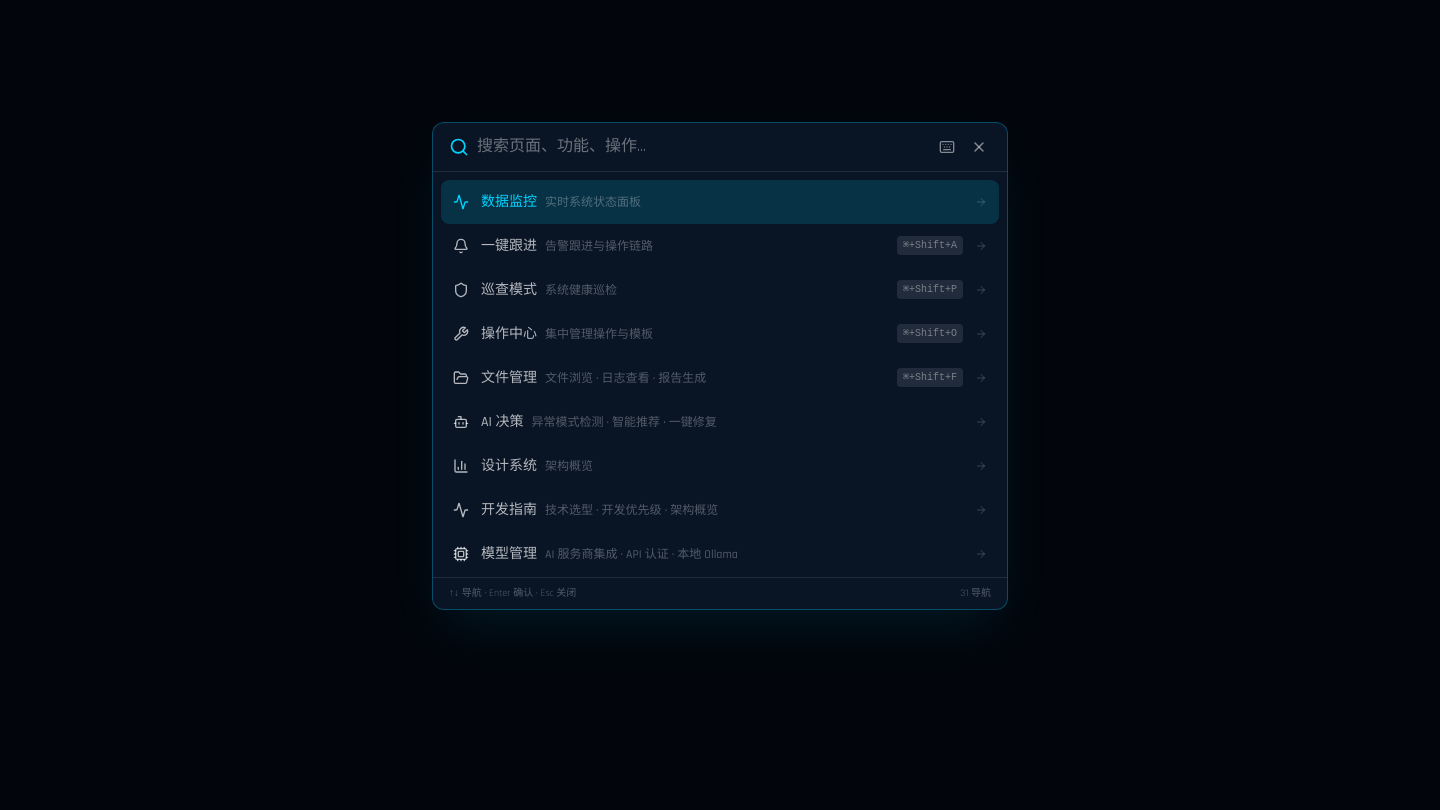
Scenario: CommandPalette › 快捷键帮助 › 点击快捷键按钮应显示帮助面板
Click the button with test id "shortcuts-toggle".
click(947, 146)  # box [935,134,959,158]
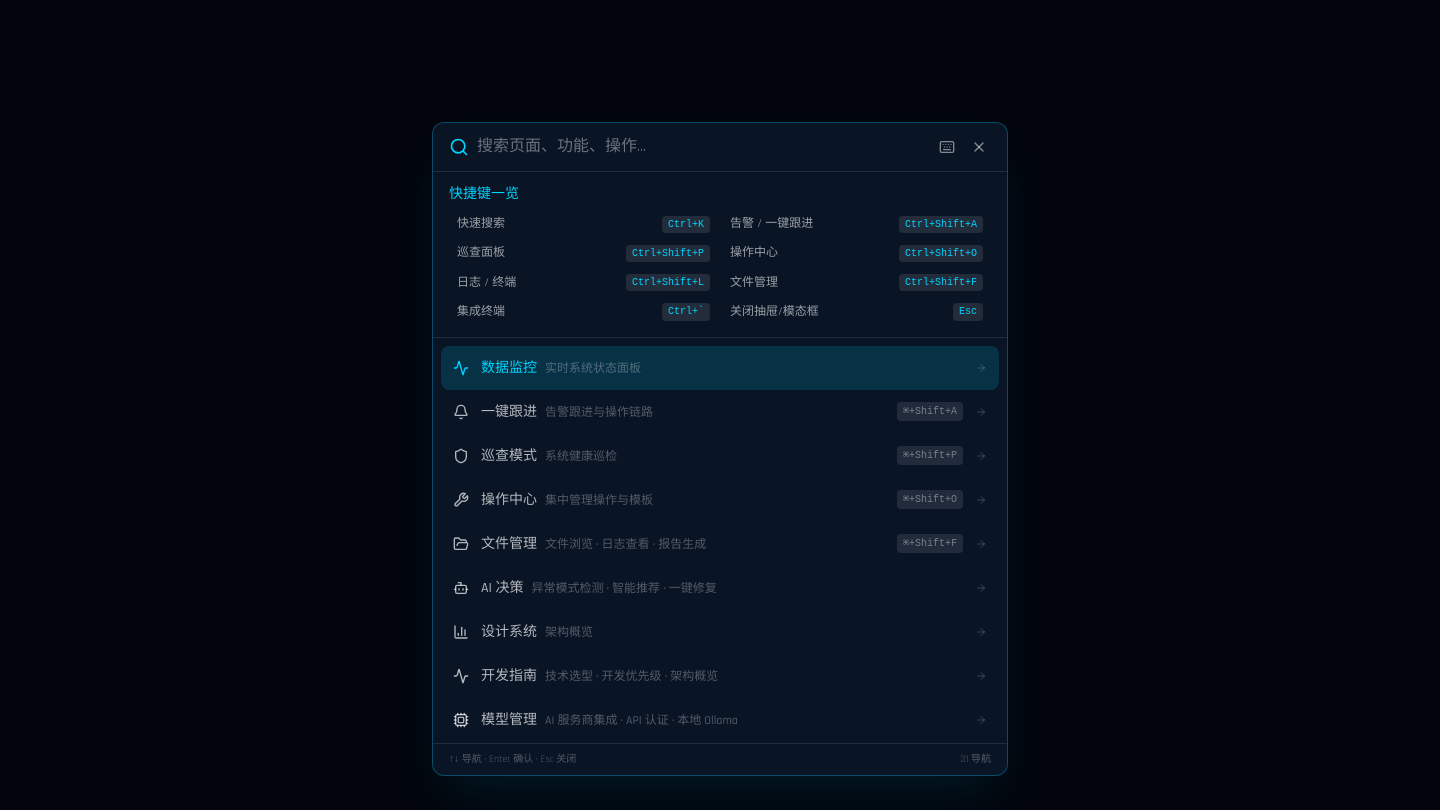
Result: the element with test id "shortcuts-panel" is shown at [433,172,1007,338]
